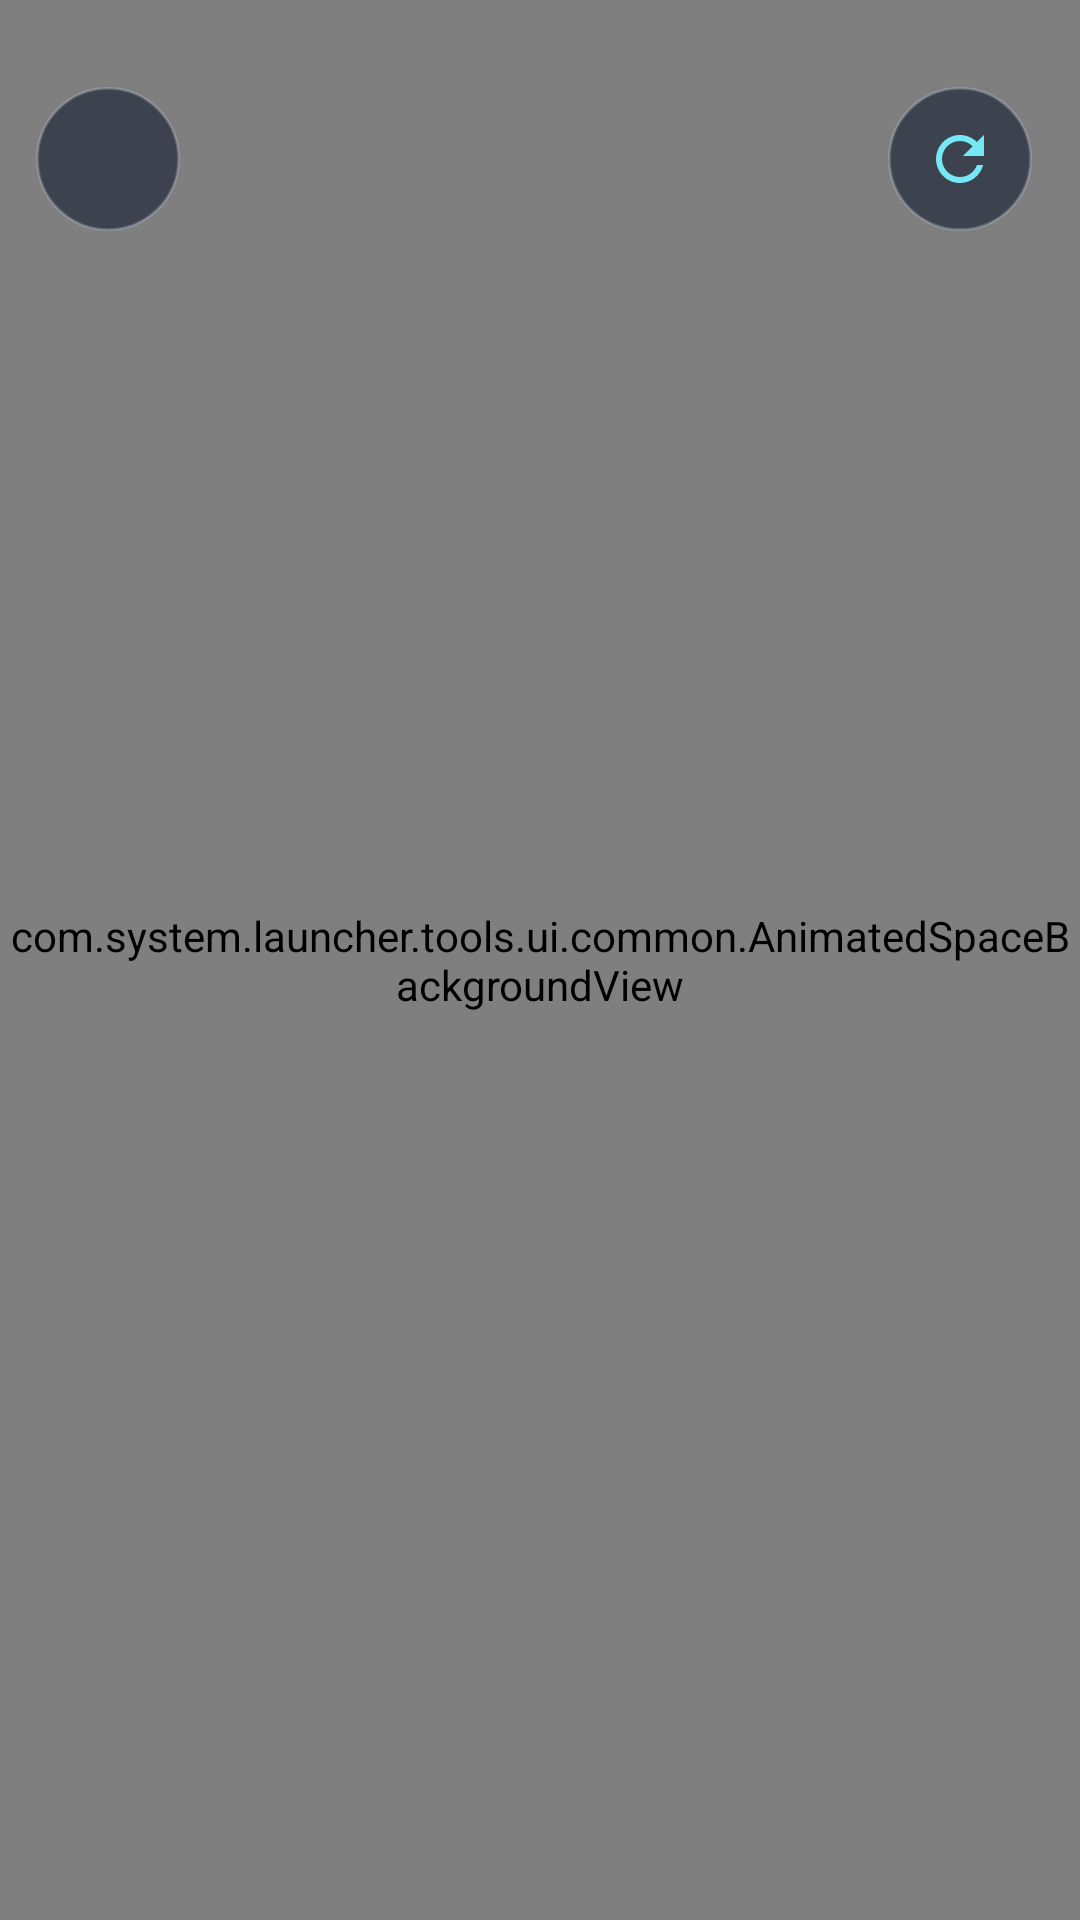

Icon bounding boxes for this 1080 × 1920 phone screenshot, format [x1,y1,x2,y2]:
刷新: [888,87,1031,231]
